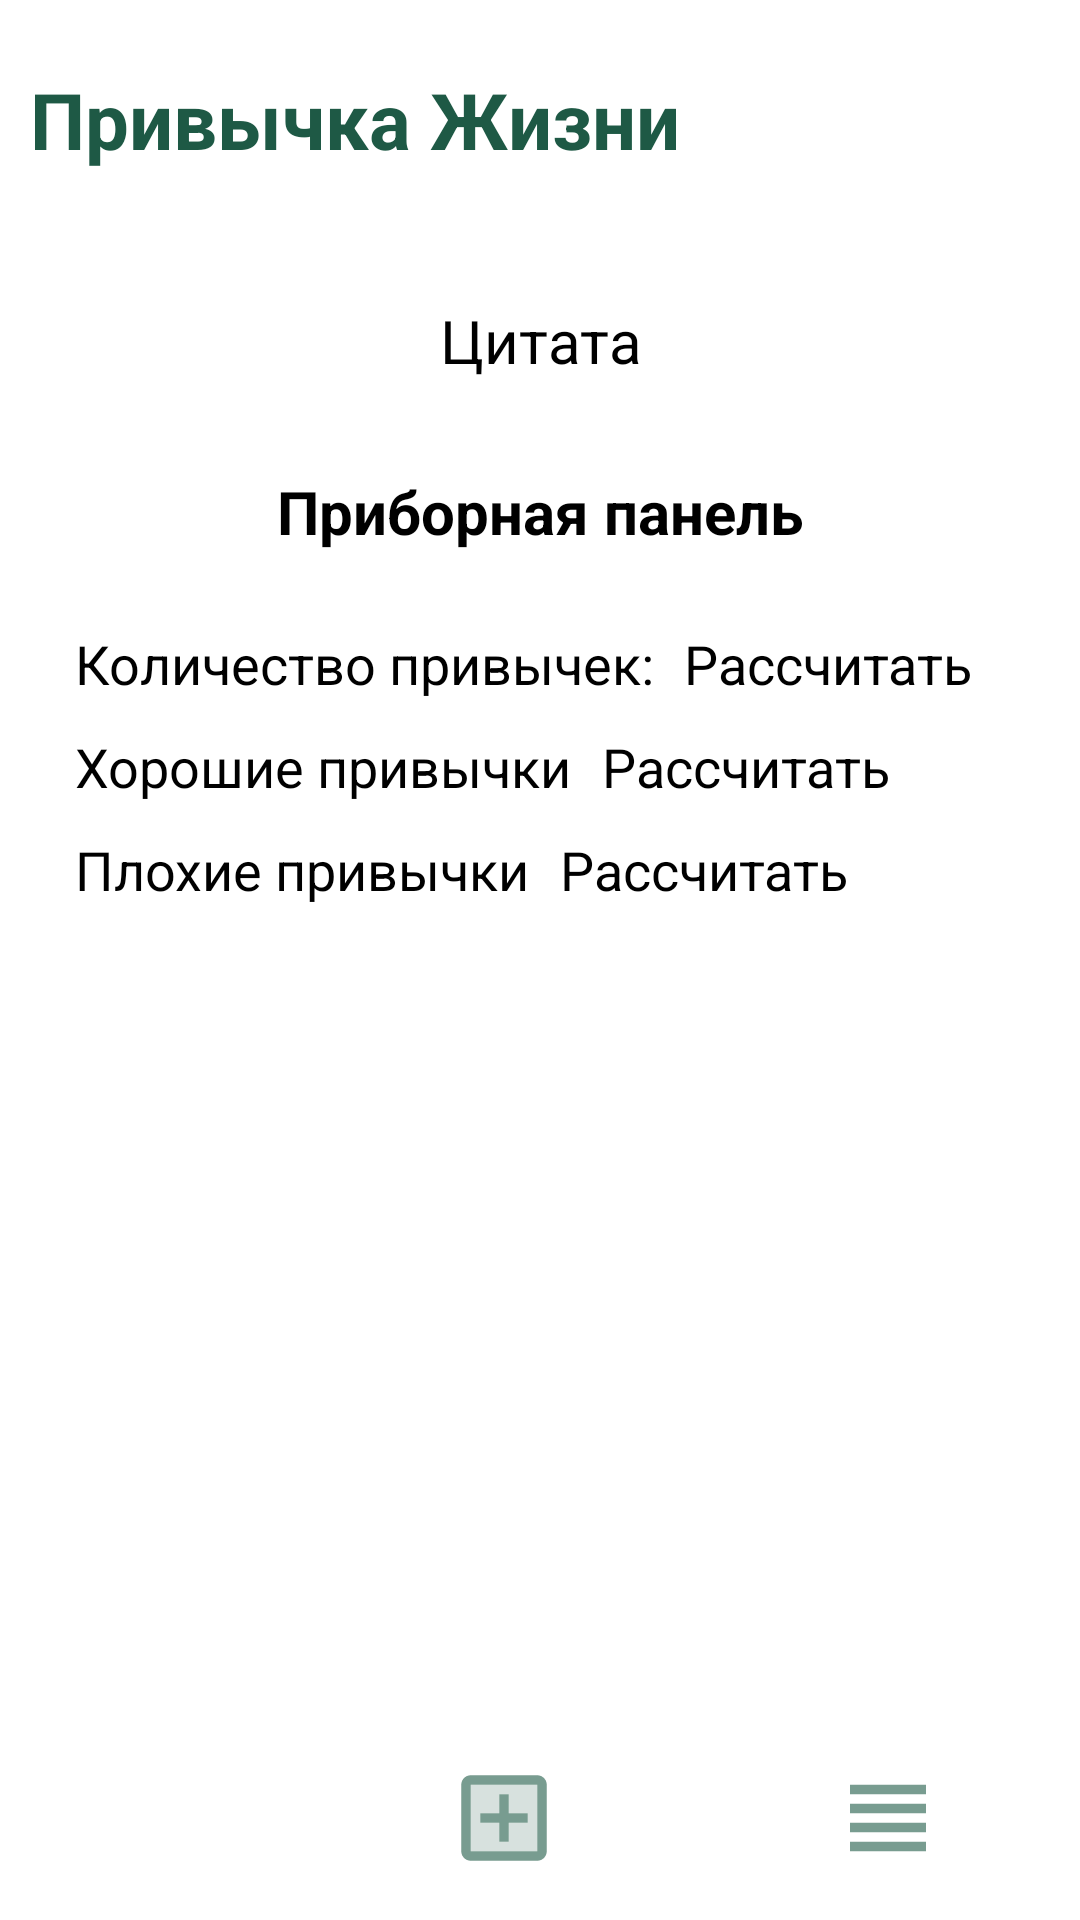

Named icons in this screenshot (1080×1920) and their centers, [x,y]:
все привычки: [888,1818]
добавить: [504,1818]
